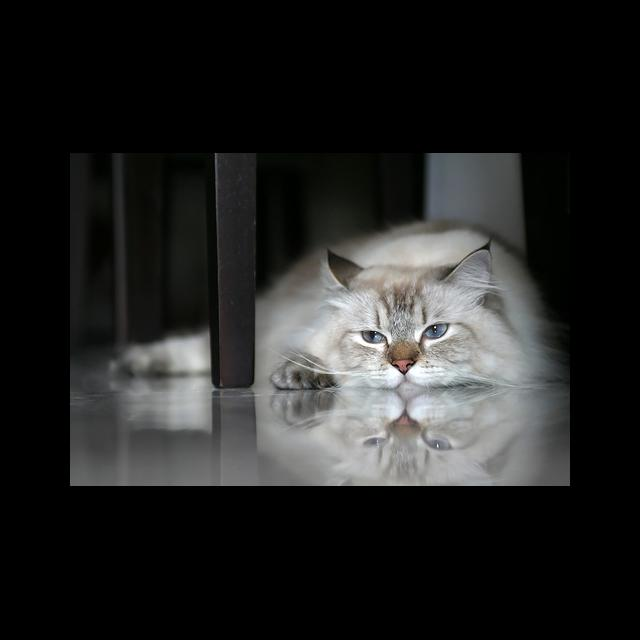animals: (327, 244, 488, 372)
